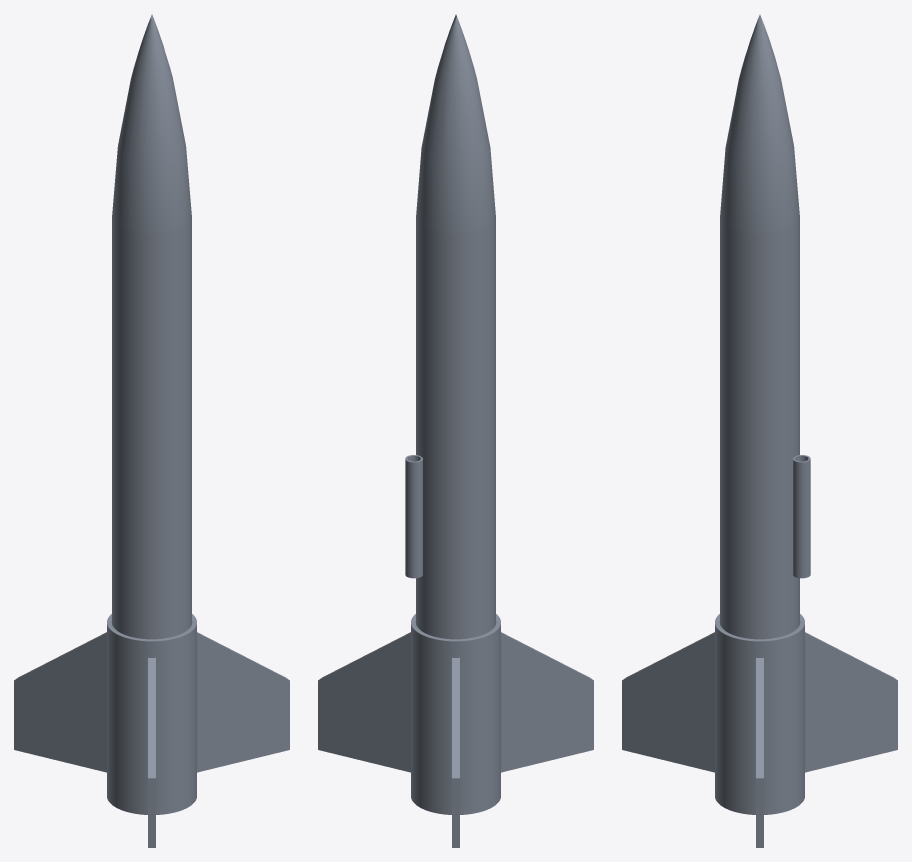
File: step-4-preview-1.glb
3 views of the same model, side by side, from view 1: azimuth 30°, elevation 25°; view 2: azimuth 150°, elevation 25°; view 3: azimuth 270°, elevation 25° (orthographic).
Parts seen in each view (by area): view 1: preview_0, preview_12, preview_8, preview_11, preview_18, preview_23, preview_27; view 2: preview_0, preview_12, preview_8, preview_13, preview_24, preview_28, preview_19, preview_26; view 3: preview_0, preview_12, preview_8, preview_20, preview_22, preview_28, preview_14, preview_10.
Boxes of the visible parts, x1,y1,x2,y2 form: preview_0: [112, 218, 191, 639]; preview_12: [107, 624, 196, 814]; preview_8: [112, 14, 191, 233]; preview_11: [197, 633, 289, 772]; preview_18: [14, 633, 106, 772]; preview_23: [148, 657, 155, 778]; preview_27: [148, 778, 155, 847]; preview_0: [416, 218, 495, 639]; preview_12: [411, 624, 500, 814]; preview_8: [416, 14, 495, 233]; preview_13: [318, 633, 410, 772]; preview_24: [501, 633, 593, 772]; preview_28: [405, 460, 422, 578]; preview_19: [452, 657, 459, 778]; preview_26: [452, 778, 459, 847]; preview_0: [720, 218, 799, 639]; preview_12: [715, 624, 804, 814]; preview_8: [720, 14, 799, 233]; preview_20: [805, 633, 897, 772]; preview_22: [622, 633, 714, 772]; preview_28: [793, 460, 810, 578]; preview_14: [756, 657, 763, 778]; preview_10: [756, 778, 763, 847].
Bounding box in the file's own units: 0.0747 × 0.27 × 0.0863.
